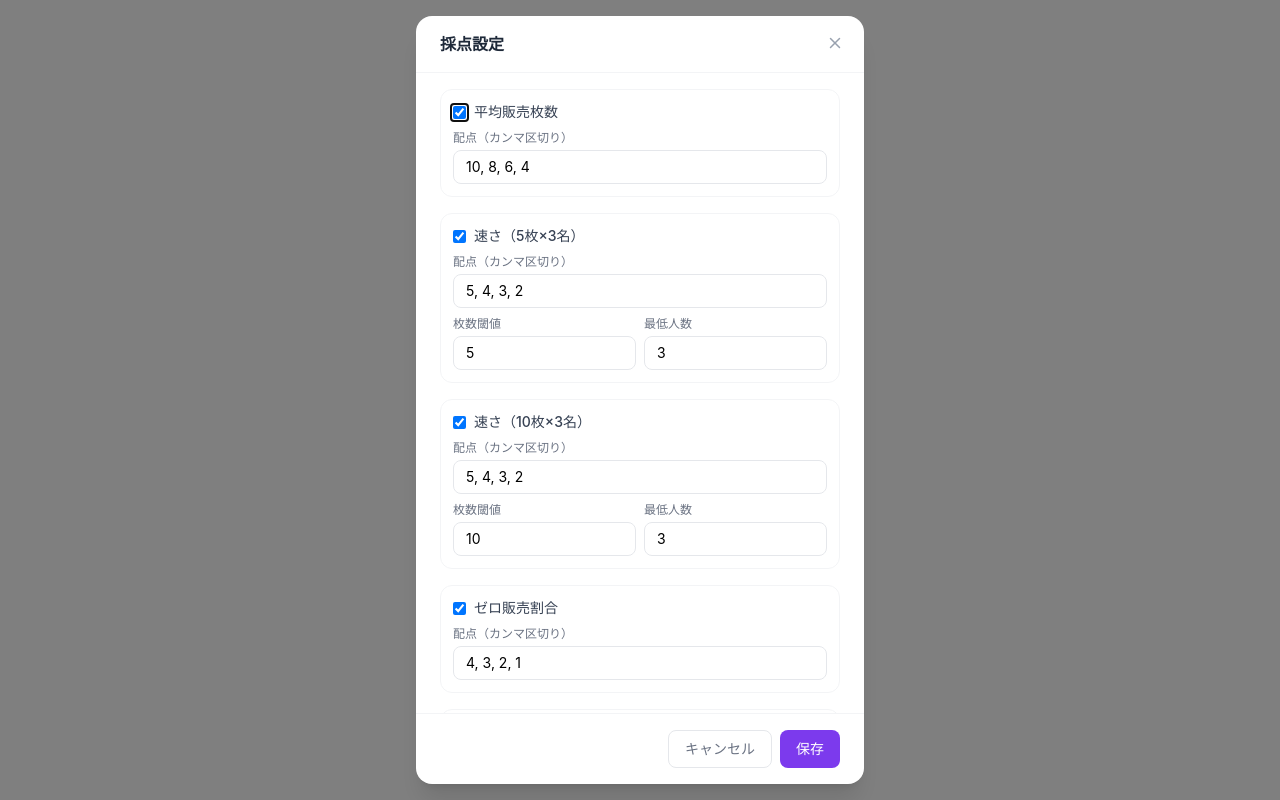
ScoringSettingsModal › 保存失敗時はサーバーのエラーメッセージを表示する
This screenshot has width=1280, height=800.
Click the button "保存". click: (810, 749)
box: [780,730,840,768]
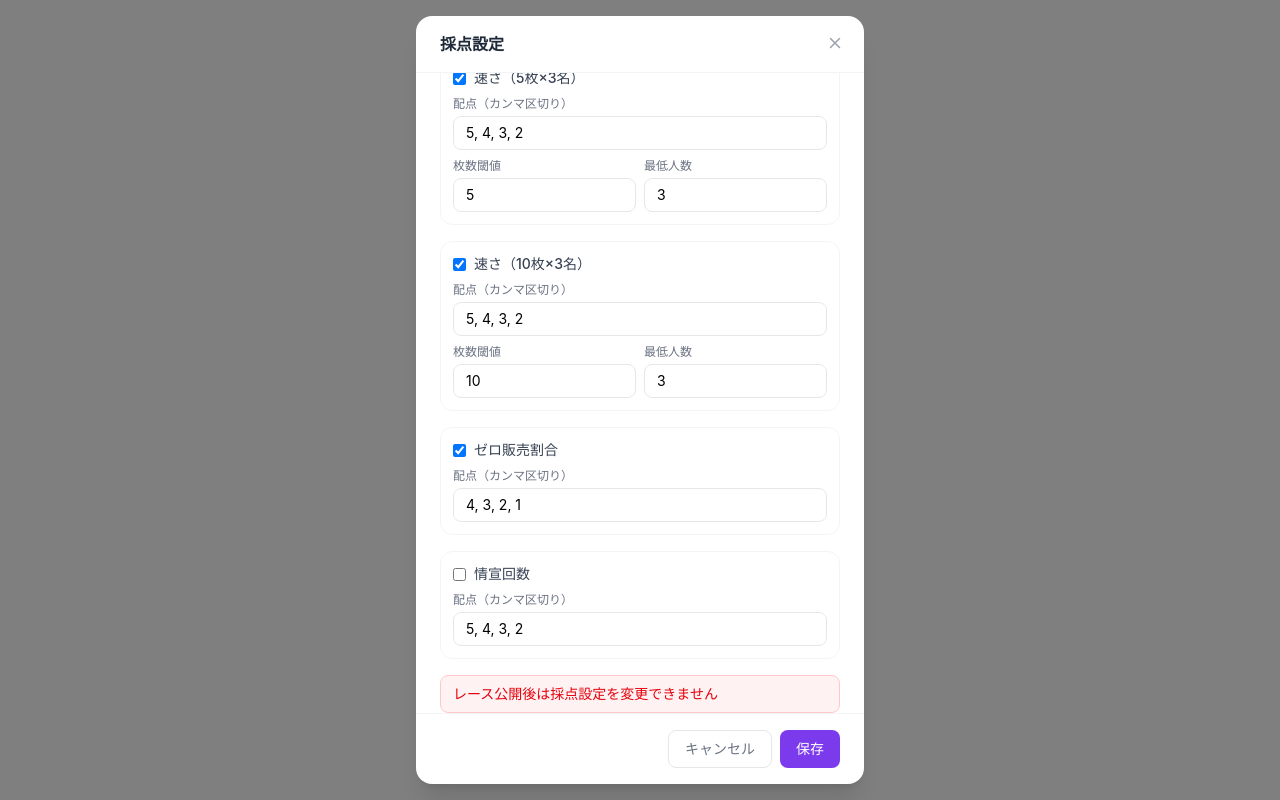
Expected: the message reads "レース公開後は採点設定を変更できません", [453,685,718,702]
